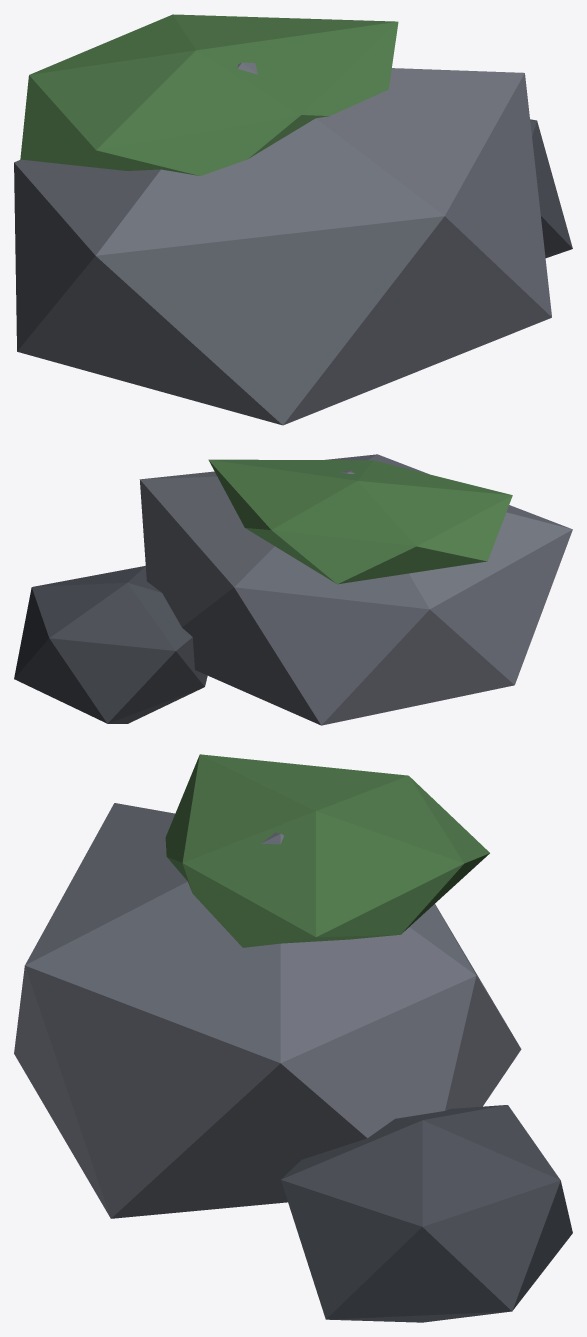
The model's file is batu.glb.
3 renders of one model, top to bottom at view 1: azimuth 30°, elevation 25°; view 2: azimuth 150°, elevation 25°; view 3: azimuth 270°, elevation 25°, orthographic. The views are drawn at different scales.
Visible parts, largest first — view 1: batu_mesh; view 2: batu_mesh; view 3: batu_mesh.
Part boxes in pixels (x1,y1,x2,y2): batu_mesh: (14, 14, 572, 425); batu_mesh: (14, 454, 572, 725); batu_mesh: (14, 754, 572, 1322).
Bounding box in the file's own units: 1.01 × 0.5862 × 0.7884.
